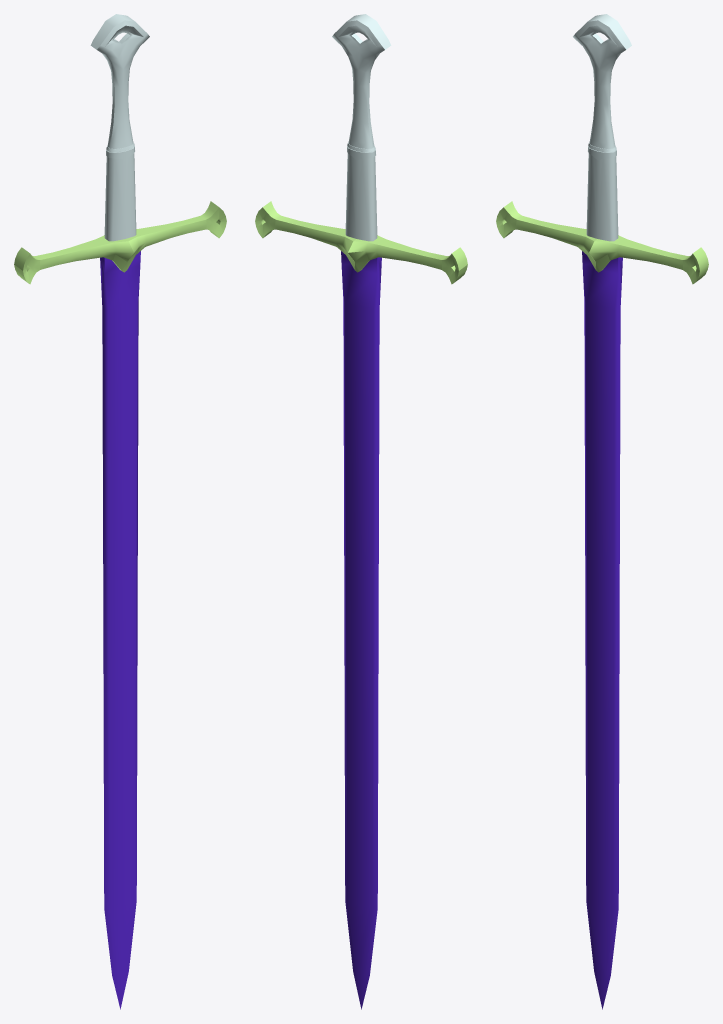
The picture shows the model from 3 angles, left to right: view 1: azimuth 30°, elevation 25°; view 2: azimuth 150°, elevation 25°; view 3: azimuth 330°, elevation 25°; orthographic projection.
Visible parts, largest first — view 1: defaultMaterial, defaultMaterial.027, split_parent_1; view 2: defaultMaterial, defaultMaterial.027, split_parent_1; view 3: defaultMaterial, defaultMaterial.027, split_parent_1.
Part boxes in pixels (<box>): defaultMaterial: <box>100,251,140,1009</box>; defaultMaterial.027: <box>90,14,149,241</box>; split_parent_1: <box>14,201,226,284</box>; defaultMaterial: <box>341,251,381,1009</box>; defaultMaterial.027: <box>332,14,391,241</box>; split_parent_1: <box>255,201,467,284</box>; defaultMaterial: <box>582,251,622,1009</box>; defaultMaterial.027: <box>573,14,631,241</box>; split_parent_1: <box>496,201,708,284</box>.
Size of the model in its own units: 0.2149 by 1 by 0.0496.
